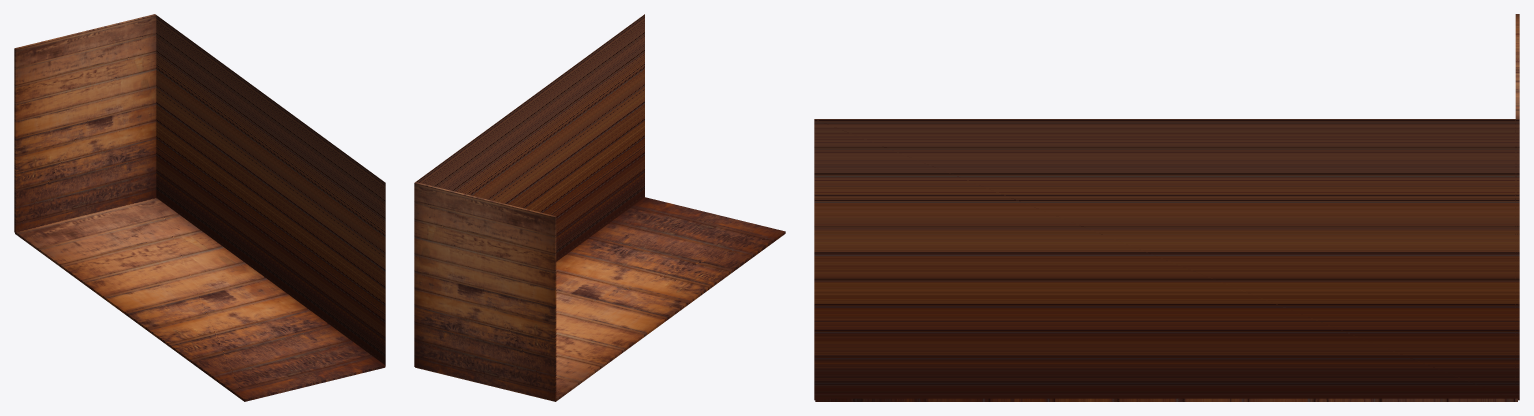
The model's file is Room2.gltf.
3 renders of one model, left to right at view 1: azimuth 30°, elevation 25°; view 2: azimuth 150°, elevation 25°; view 3: azimuth 270°, elevation 25°, orthographic. The views are drawn at different scales.
Visible parts, largest first — view 1: Plane.001, Plane; view 2: Plane.001, Plane; view 3: Plane.001, Plane.
Part boxes in pixels (x1,y1,x2,y2): Plane.001: (14, 14, 385, 366); Plane: (15, 198, 385, 401); Plane.001: (414, 14, 644, 400); Plane: (415, 197, 785, 401); Plane.001: (814, 14, 1519, 400); Plane: (815, 398, 1517, 401).
Size of the model in its own units: 5.64 by 7.08 by 16.
1 material, 1 textured.
